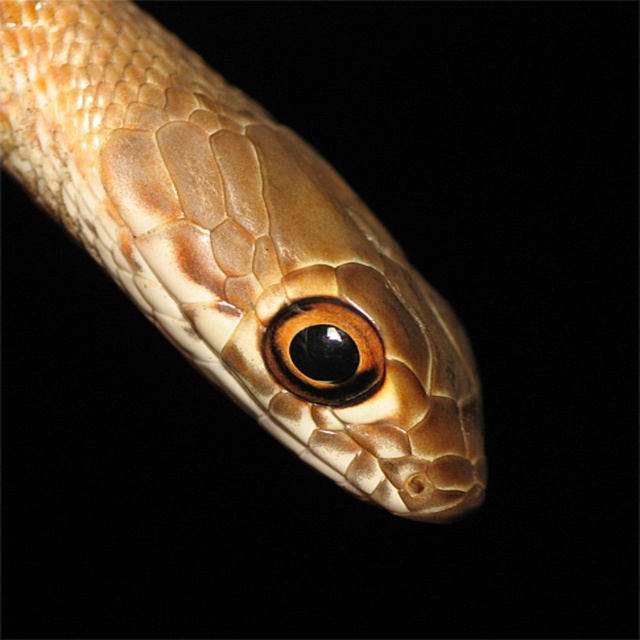Snake: (0, 0, 487, 525)
